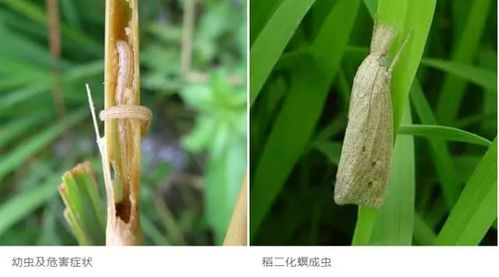Crambidae: (332, 31, 408, 209)
